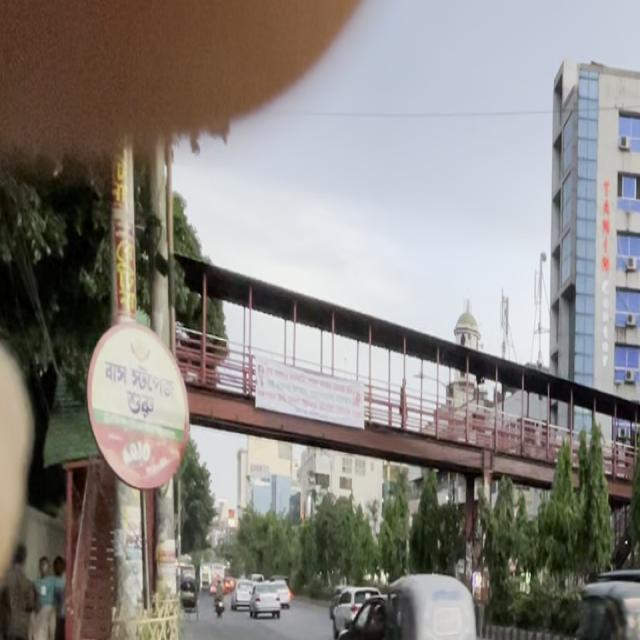rickshaw: (381, 546, 489, 640), (563, 562, 640, 640)
